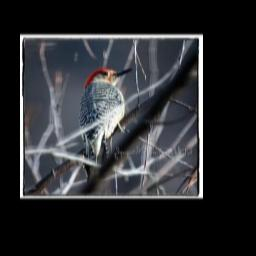Woodpecker: (76, 63, 137, 163)
